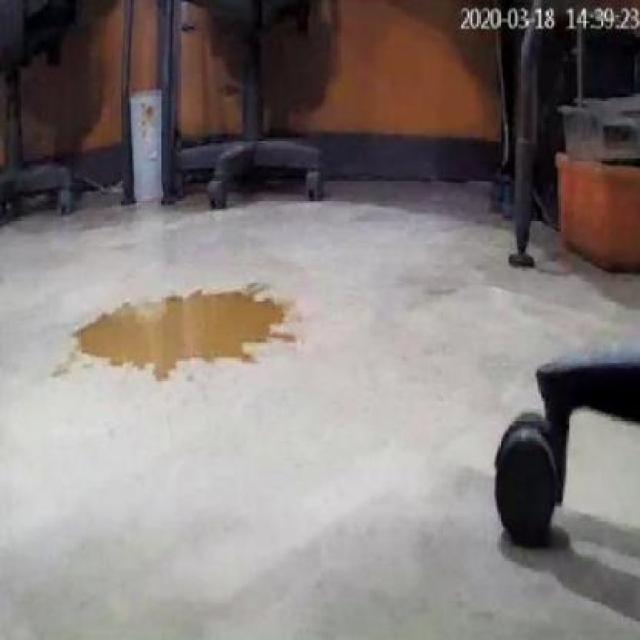spillage: (76, 288, 292, 381)
